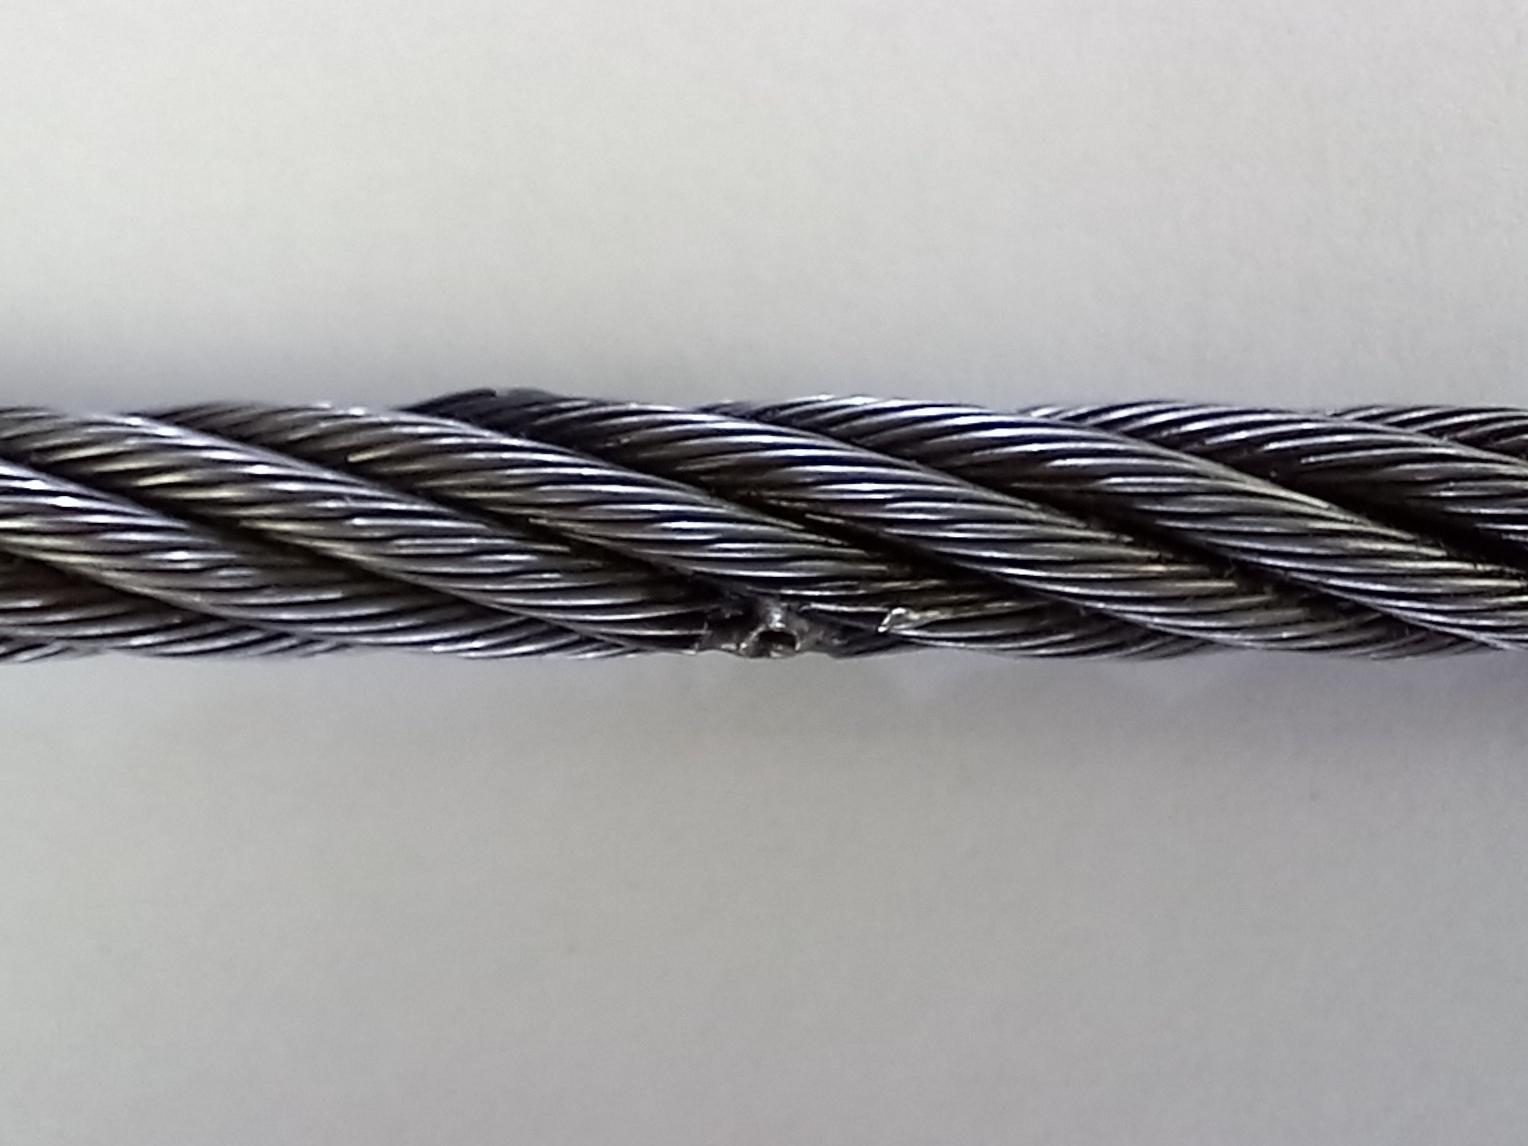thunderbolt: (663, 559, 940, 673)
